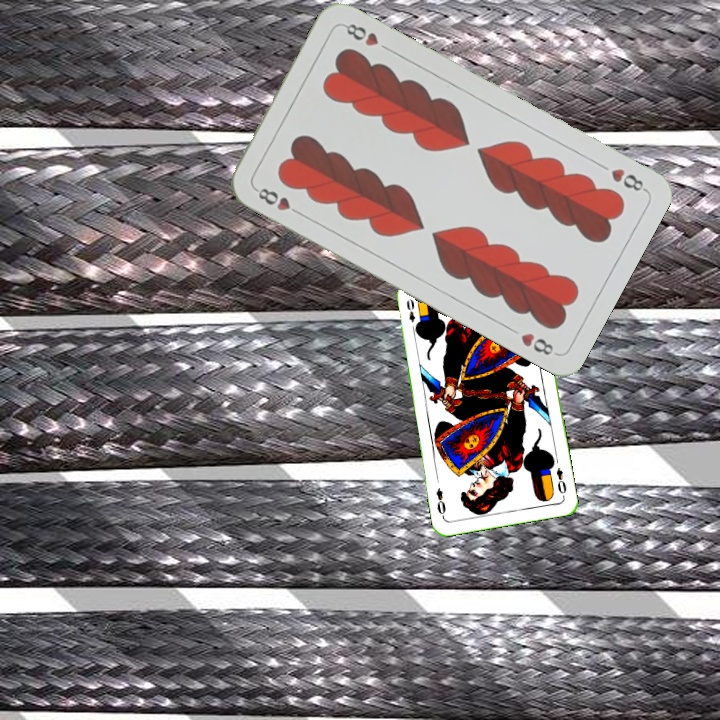EO: (402, 295, 420, 334), (552, 464, 569, 500)
H8: (251, 183, 305, 218), (607, 164, 649, 195)
